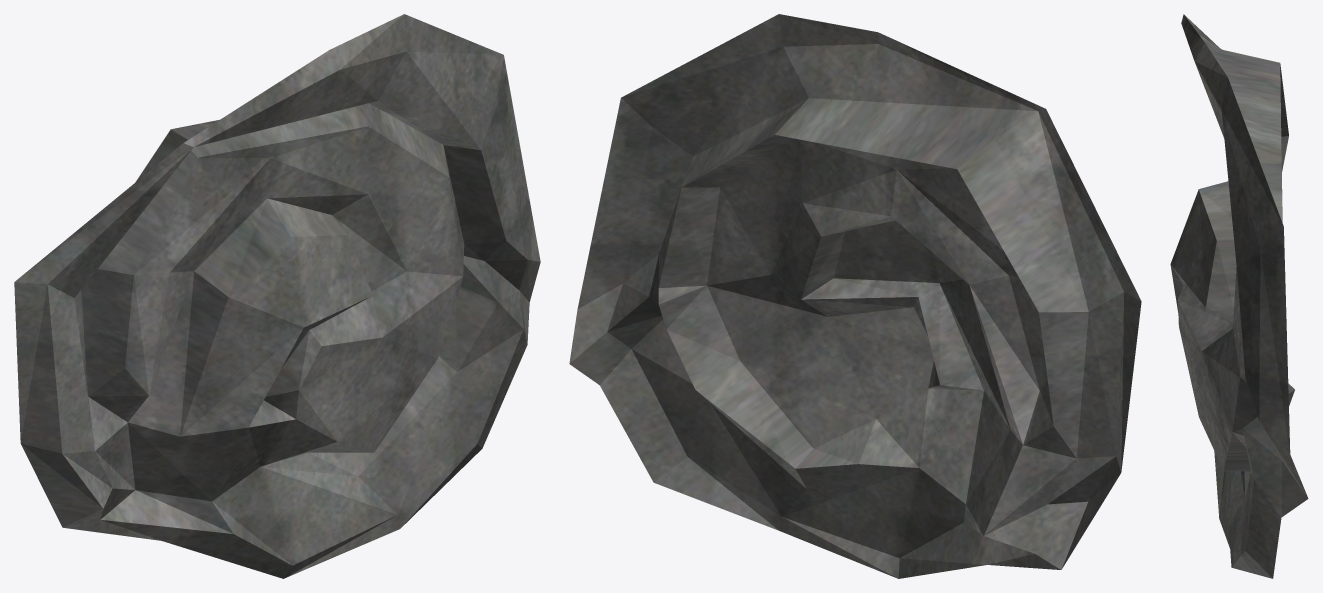
File: WaterfallCaveCover.dae
3 views of the same model, side by side, from view 1: azimuth 30°, elevation 25°; view 2: azimuth 150°, elevation 25°; view 3: azimuth 270°, elevation 25° (orthographic). The views are drawn at different scales.
Visible parts, largest first — view 1: m0; view 2: m0; view 3: m0.
Part boxes in pixels (<box>): m0: <box>14,14,540,578</box>; m0: <box>569,14,1141,578</box>; m0: <box>1170,14,1308,578</box>.
Bounding box in the file's own units: 1236 × 1160 × 284.
Materials: 1 (1 with a texture image).
